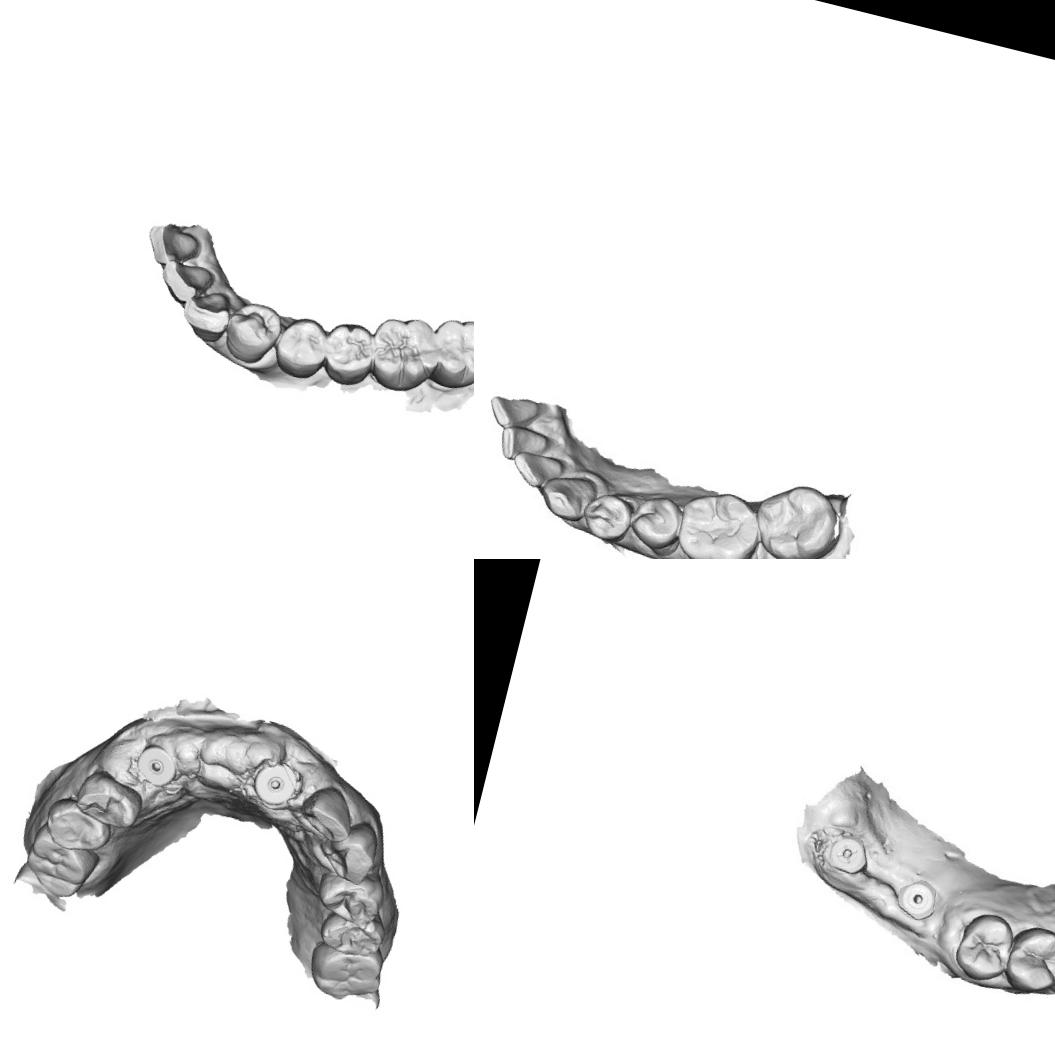canine: (214, 290, 286, 369), (317, 814, 389, 890), (536, 465, 598, 527)
implant: (247, 756, 302, 810), (128, 740, 183, 792), (892, 873, 942, 926)
implant_plus: (821, 831, 869, 880)
incisor: (292, 778, 362, 847), (173, 280, 240, 347), (142, 213, 204, 272), (157, 253, 217, 309), (509, 446, 563, 492), (495, 420, 549, 466)
molar: (669, 484, 771, 559), (360, 308, 444, 398), (750, 476, 839, 559), (15, 824, 101, 905), (300, 936, 390, 1011), (421, 309, 474, 397)
premolar: (68, 763, 148, 834), (306, 864, 387, 932), (40, 792, 118, 859), (315, 315, 381, 390), (268, 310, 334, 384), (952, 908, 1017, 982), (998, 919, 1055, 1000), (314, 905, 390, 963), (579, 489, 638, 545), (630, 493, 683, 551)
